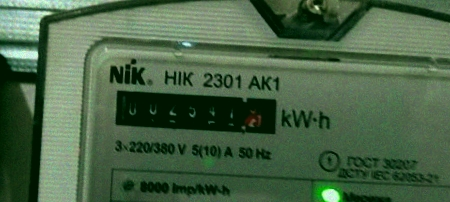0: (124, 95, 139, 117), (146, 94, 159, 116)
1: (224, 100, 237, 121)
2: (166, 97, 179, 117)
4: (205, 98, 219, 120)
5: (184, 97, 198, 120)
6: (246, 114, 258, 130)
screen: (103, 79, 288, 144)
